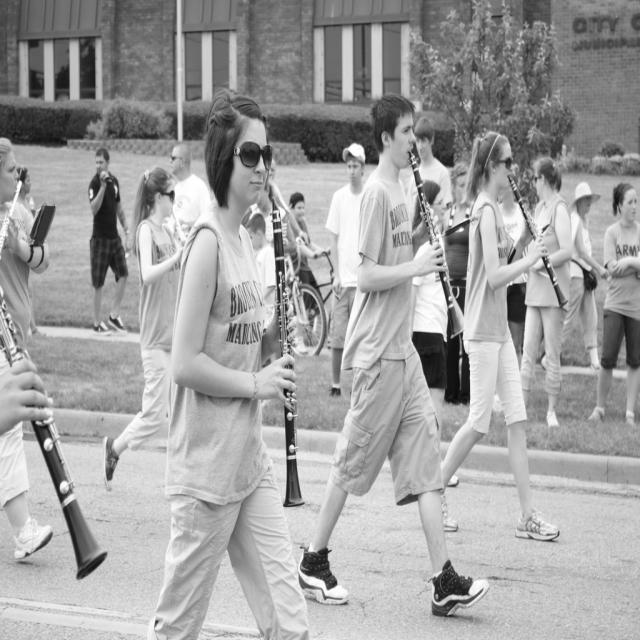clarinet: (0, 292, 109, 580), (265, 190, 308, 510), (405, 147, 470, 341), (506, 173, 569, 310)
